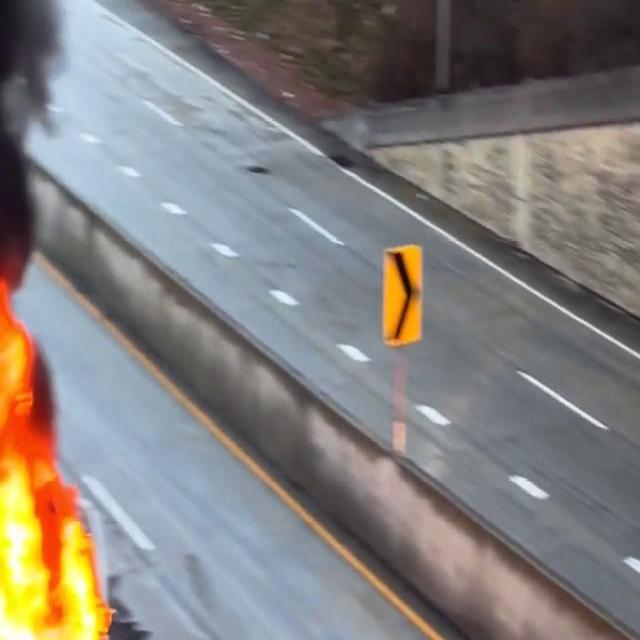Fire: (0, 262, 110, 640)
Smoke: (0, 0, 78, 295)
